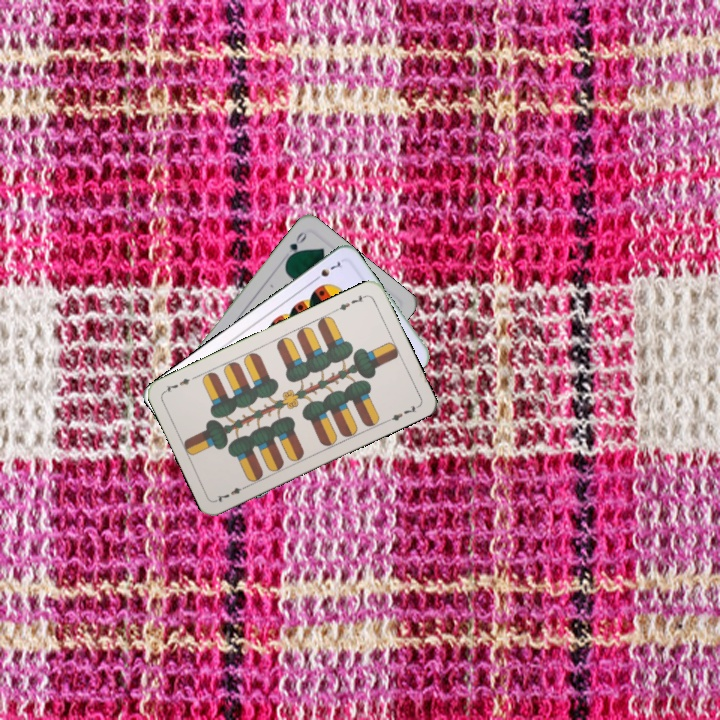E7: (212, 481, 251, 505), (331, 291, 369, 314)
GO: (282, 227, 309, 264)
S7: (309, 258, 345, 284)
